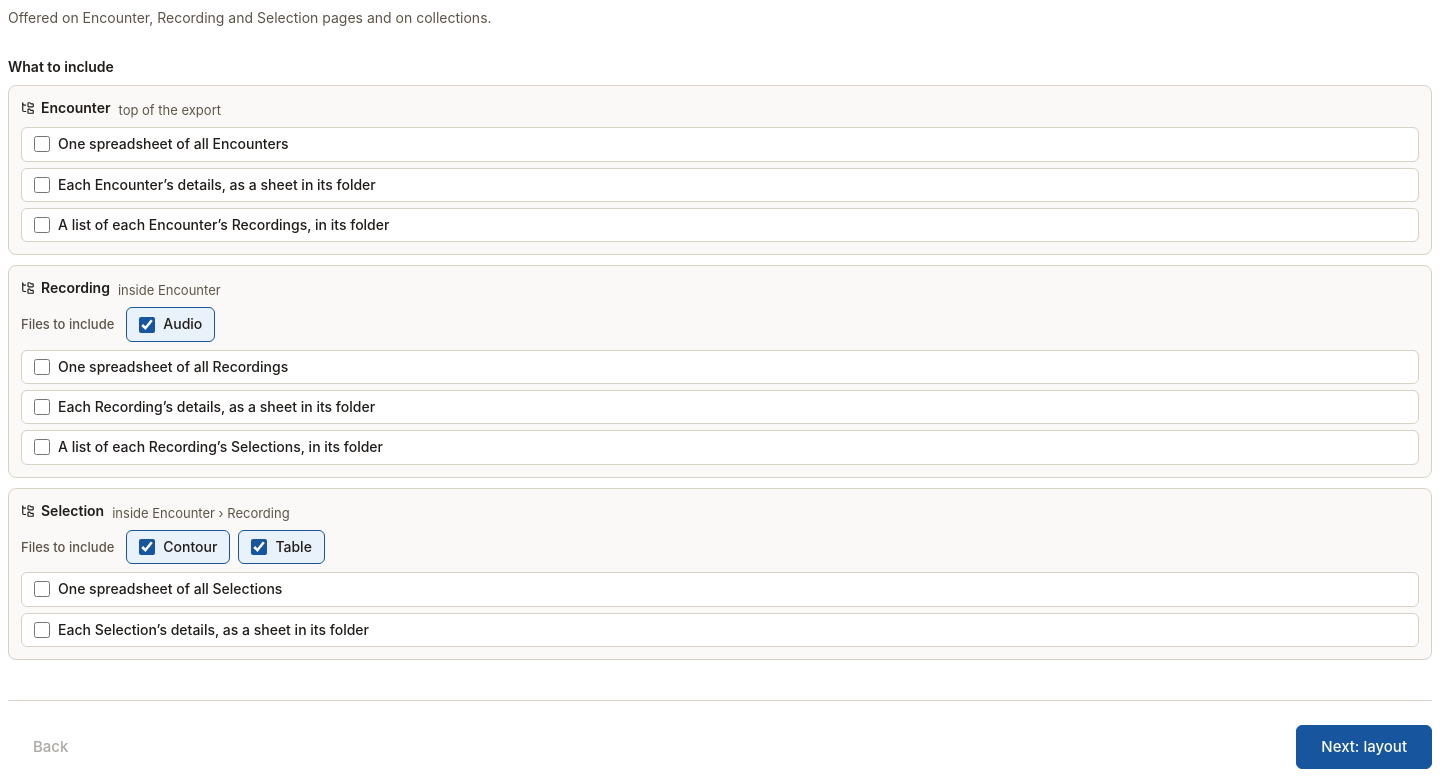
choosing a layout › selects one, a folder per record to begin with
(page scrolled)
Click the button "Next: layout" at coordinates (1364, 747), box x1=1296 y1=725 x2=1432 y2=769
(page scrolled)
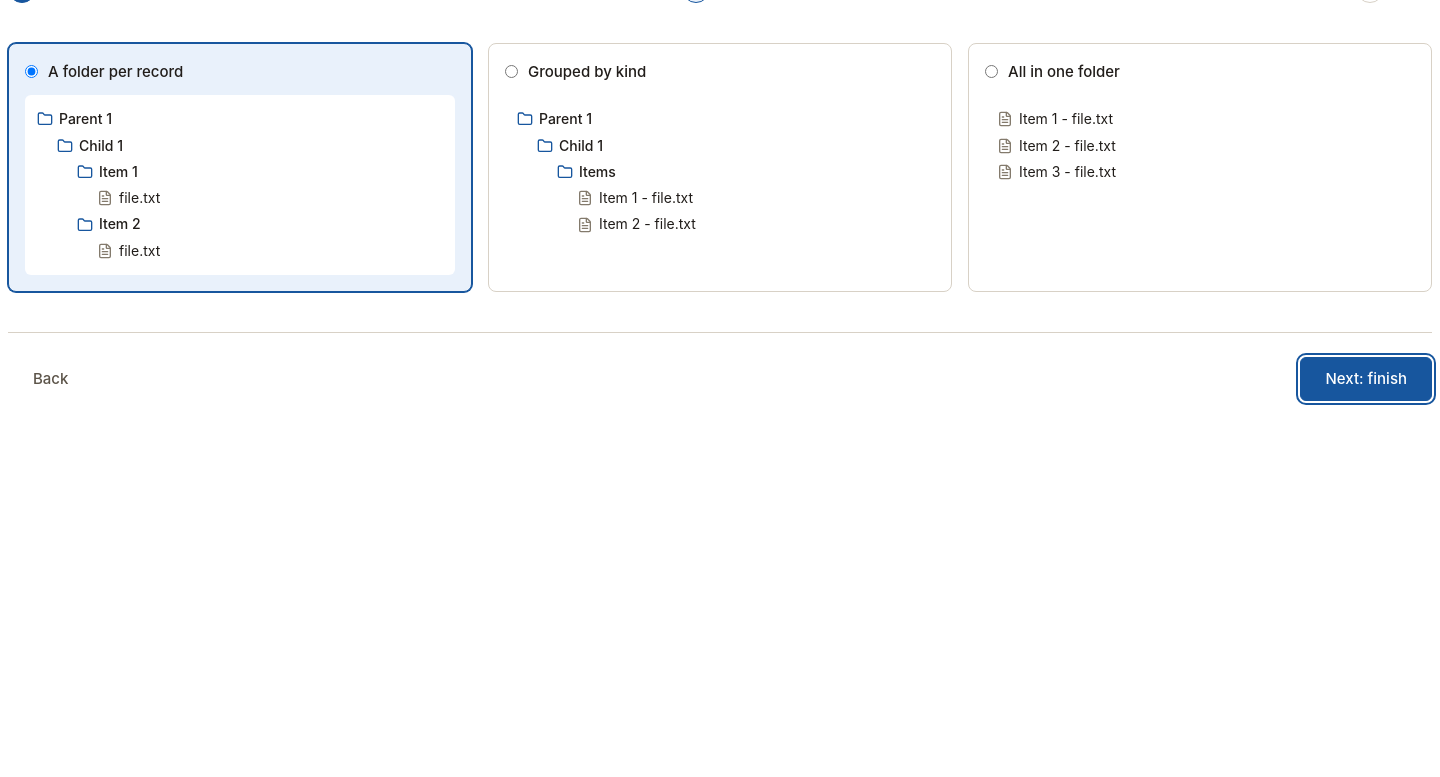
Expected: the radio button labelled "A folder per record" is checked, x1=25 y1=65 x2=38 y2=78
Click the radio button labelled "Grouped by kind" at coordinates (512, 72), box x1=505 y1=65 x2=518 y2=78
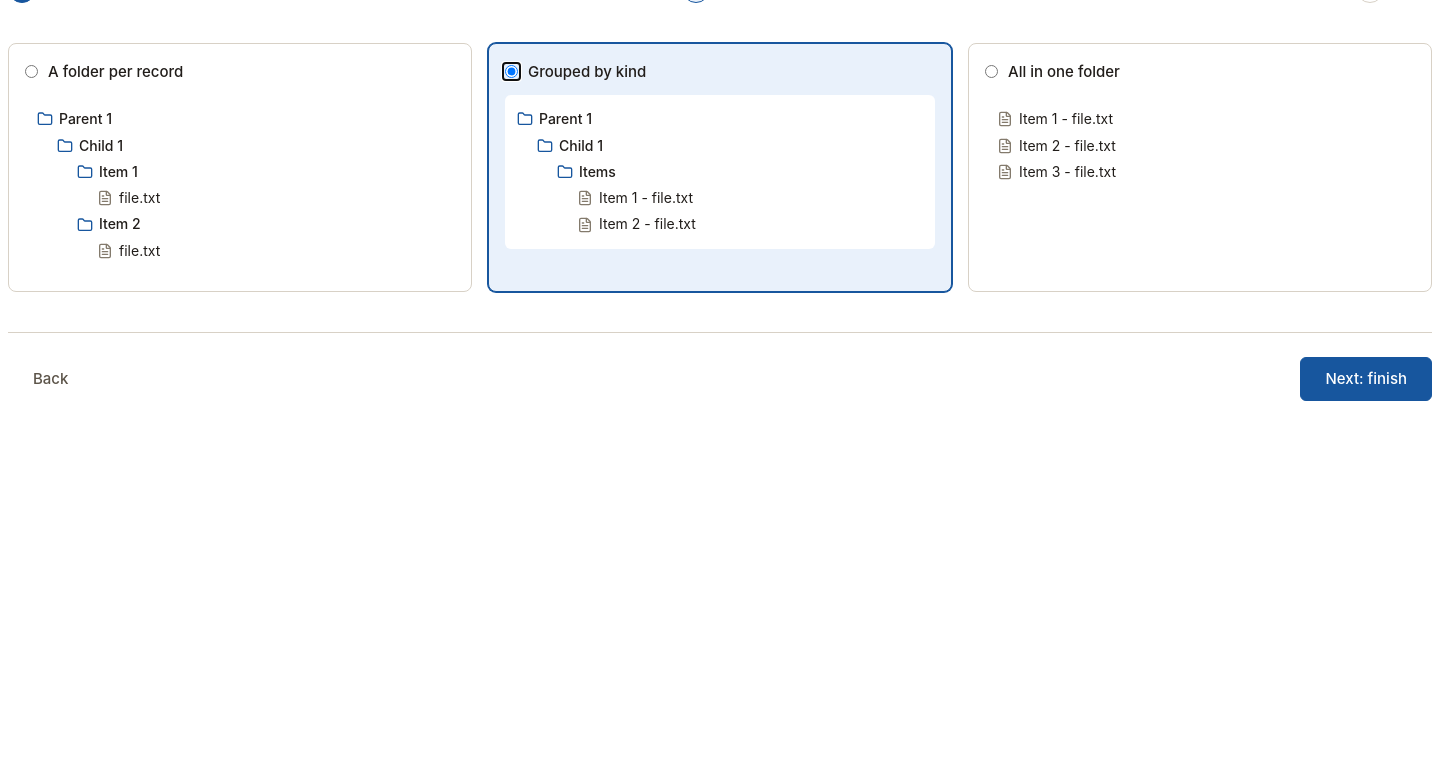
Expected: the radio button labelled "Grouped by kind" is checked, x1=505 y1=65 x2=518 y2=78
Expected: the radio button labelled "A folder per record" is not checked, x1=25 y1=65 x2=38 y2=78
